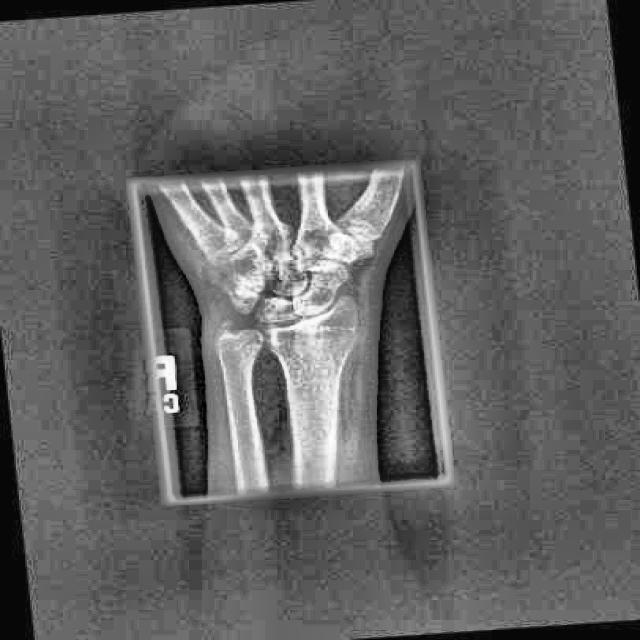fingers positive: (242, 311, 380, 353)
